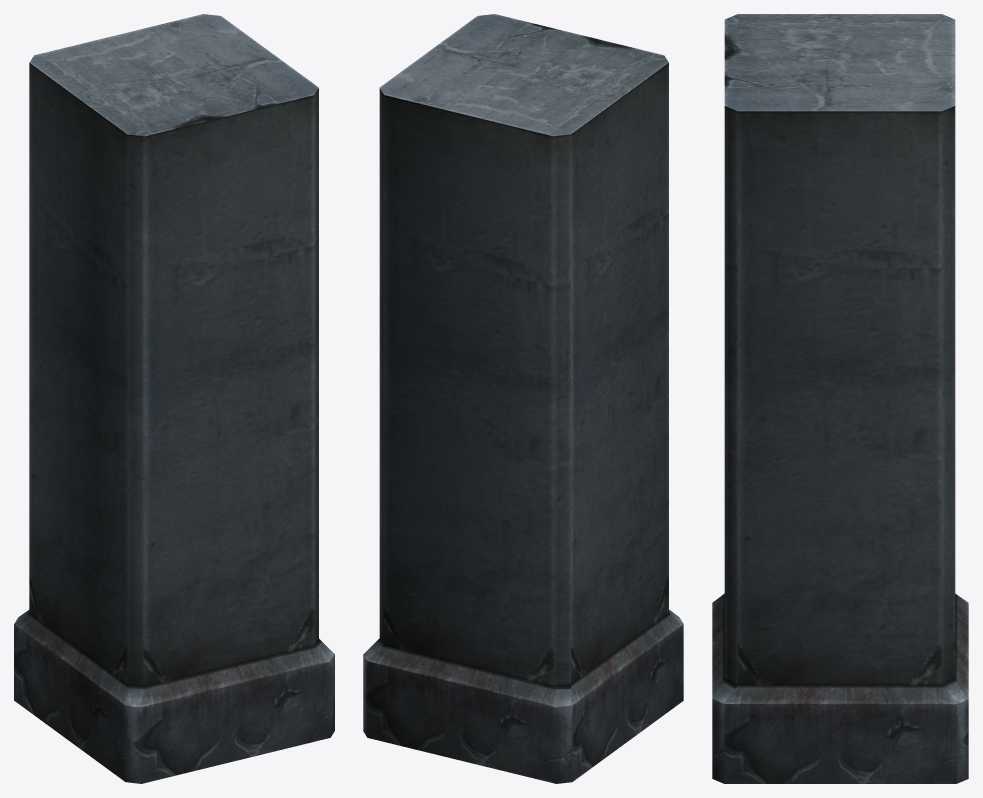
Rendered from B_shikuai018.fbx.
3 views of the same model, side by side, from view 1: azimuth 30°, elevation 25°; view 2: azimuth 150°, elevation 25°; view 3: azimuth 270°, elevation 25° (orthographic). The views are drawn at different scales.
Visible parts, largest first — view 1: B_shikuai018; view 2: B_shikuai018; view 3: B_shikuai018.
Part boxes in pixels (box(x1,y1,x2,y2)): B_shikuai018: box(14, 14, 334, 783); B_shikuai018: box(363, 14, 683, 783); B_shikuai018: box(712, 14, 968, 783).
Size of the model in its own units: 157 by 460 by 160.
